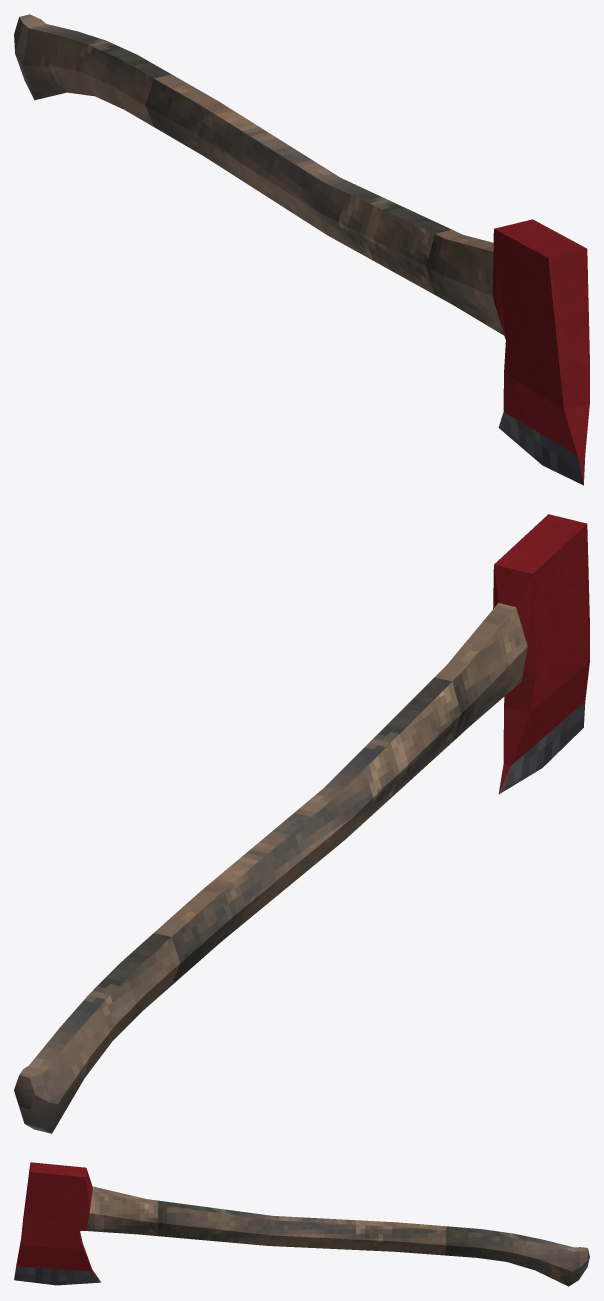
The model's file is Axe.glb.
3 views of the same model, one above another, from view 1: azimuth 30°, elevation 25°; view 2: azimuth 150°, elevation 25°; view 3: azimuth 270°, elevation 25° (orthographic). The views are drawn at different scales.
Parts seen in each view (by area): view 1: pCylinder1; view 2: pCylinder1; view 3: pCylinder1.
Boxes of the visible parts, left/top/right/bottom form: pCylinder1: left=14, top=14, right=589, bottom=485; pCylinder1: left=14, top=514, right=589, bottom=1133; pCylinder1: left=14, top=1162, right=589, bottom=1286.
Size of the model in its own units: 0.3825 by 2.17 by 9.57.
1 material, 1 textured.
